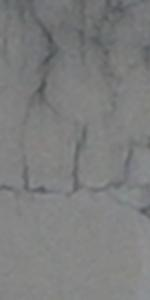fissura: (0, 0, 150, 219)
